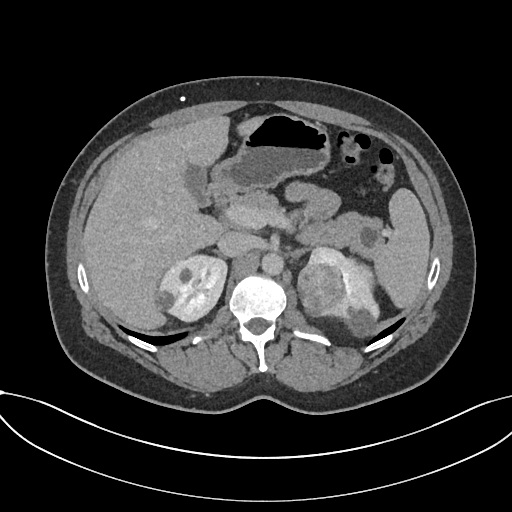Lesion: (293, 260, 348, 321), (149, 287, 177, 315)
